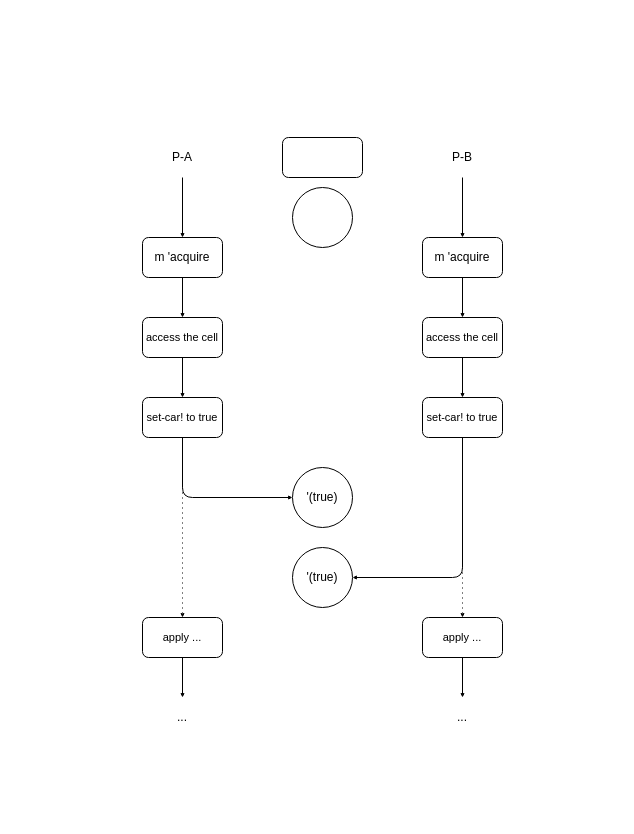
Image size: 634x834. Some labels were removed from this diagram. The centre of each missing label's shape, as x and y in pixels:
"'(false)" goes at pixel 322 217.
"Mutex" goes at pixel 322 157.
